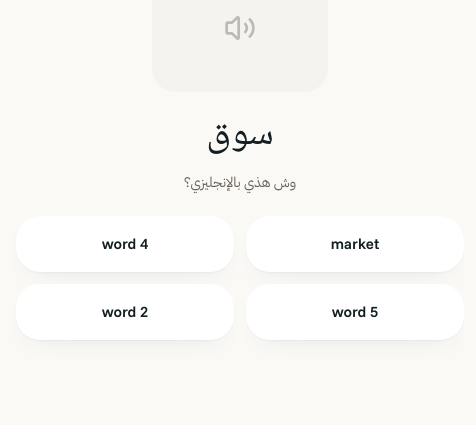
Test case: multiple choice › reports a right answer
The width and height of the screenshot is (476, 425).
Click the button "market" at (355, 244), box [246,216,464,272]
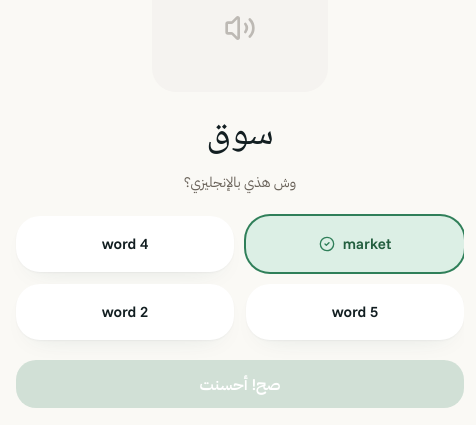
Expected: the text "صح! أحسنت" is shown, [16,360,464,408]
